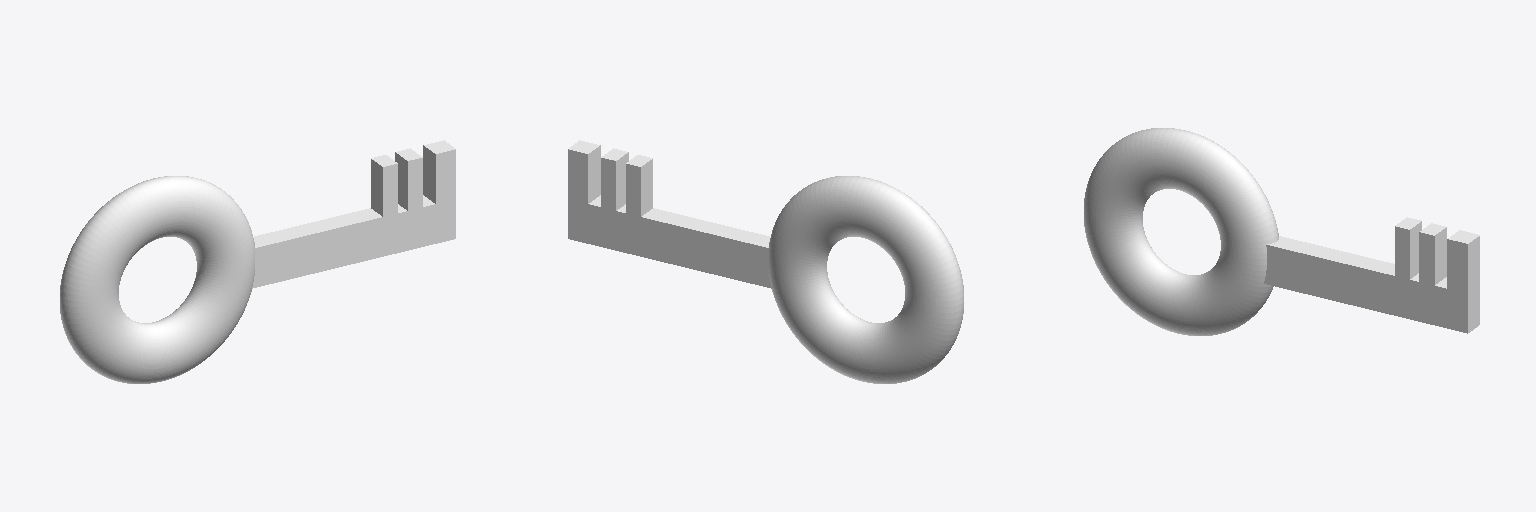
File: key.obj
The picture shows the model from 3 angles: view 1: azimuth 30°, elevation 25°; view 2: azimuth 150°, elevation 25°; view 3: azimuth 330°, elevation 25°; orthographic projection.
Parts seen in each view (by area): view 1: Object.1, Object.2, Object.3, Object.5, Object.4; view 2: Object.1, Object.2, Object.3, Object.5, Object.4; view 3: Object.1, Object.2, Object.3, Object.4, Object.5.
Boxes of the visible parts, <box> form: Object.1: <box>60,176,254,383</box>; Object.2: <box>252,195,455,288</box>; Object.3: <box>423,140,455,214</box>; Object.5: <box>371,155,397,227</box>; Object.4: <box>395,148,422,221</box>; Object.1: <box>769,176,963,383</box>; Object.2: <box>568,195,771,288</box>; Object.3: <box>568,140,600,209</box>; Object.5: <box>626,155,652,227</box>; Object.4: <box>601,148,628,221</box>; Object.1: <box>1084,128,1278,335</box>; Object.2: <box>1264,236,1479,333</box>; Object.3: <box>1447,230,1479,304</box>; Object.4: <box>1419,223,1446,295</box>; Object.5: <box>1395,217,1421,290</box>.
Size of the model in its own units: 142 by 70 by 13.99.